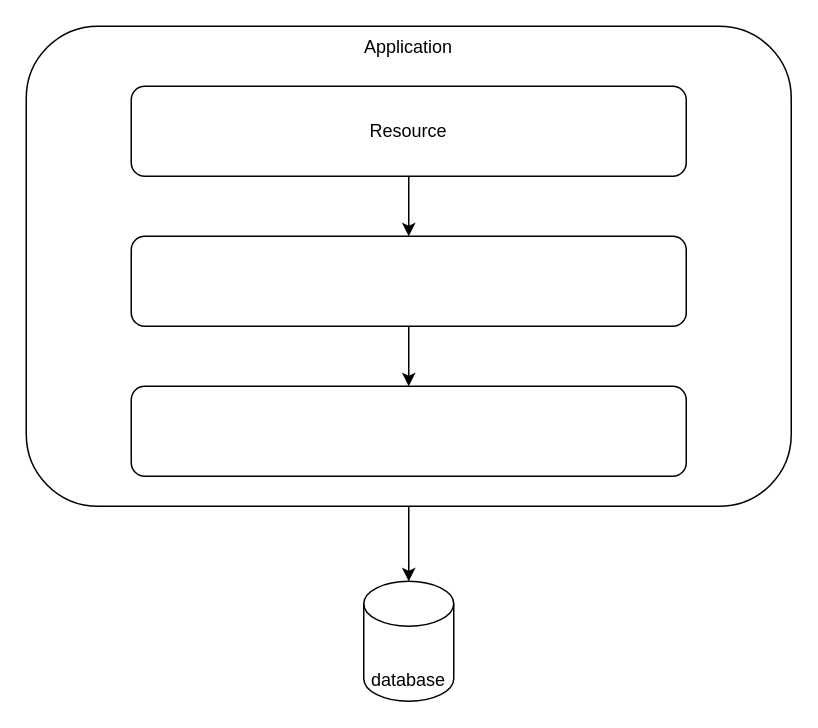
The diagram is 818 pixels wide and 728 high, and some of its shapes have lost their labels. The box of each missing label's shape, as (x1, y1, x2, y2) in pixels:
Entitiy: (130, 385, 686, 476)
Service: (130, 235, 686, 326)
